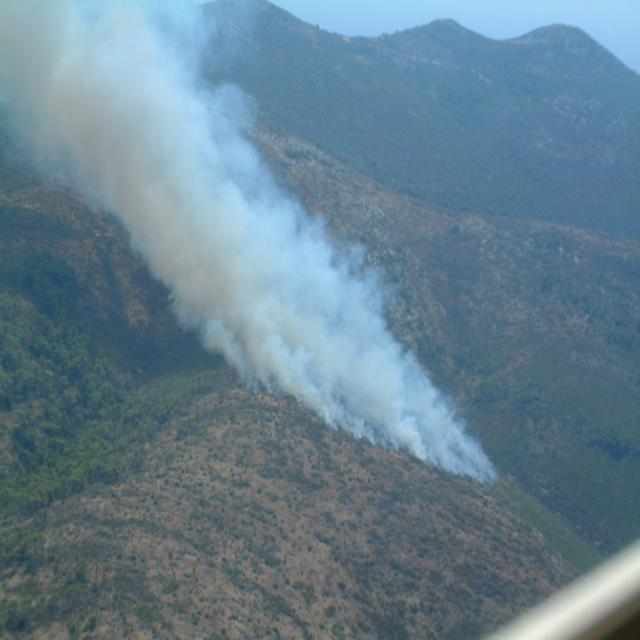Smoke: (0, 1, 500, 488)
